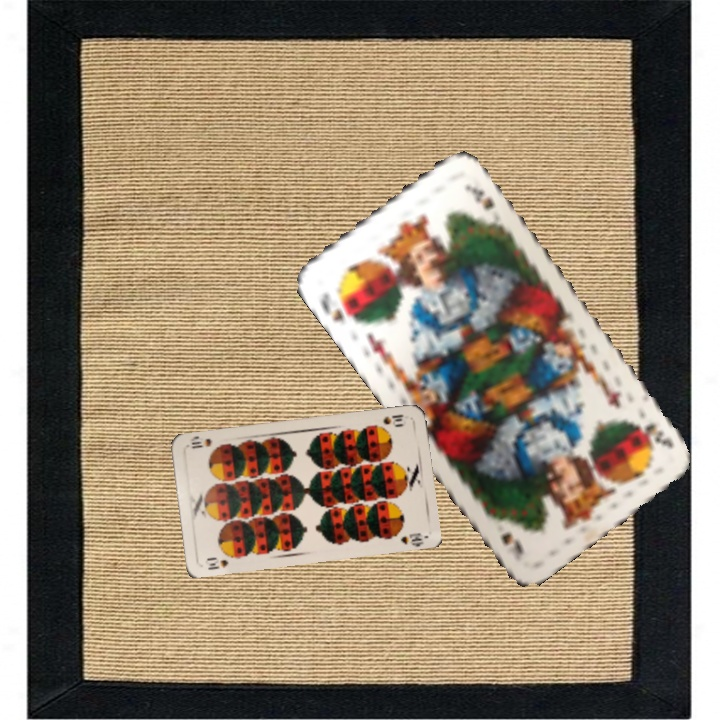S10: (203, 550, 239, 573), (379, 410, 409, 428)
SK: (316, 285, 361, 325), (640, 419, 677, 451)
